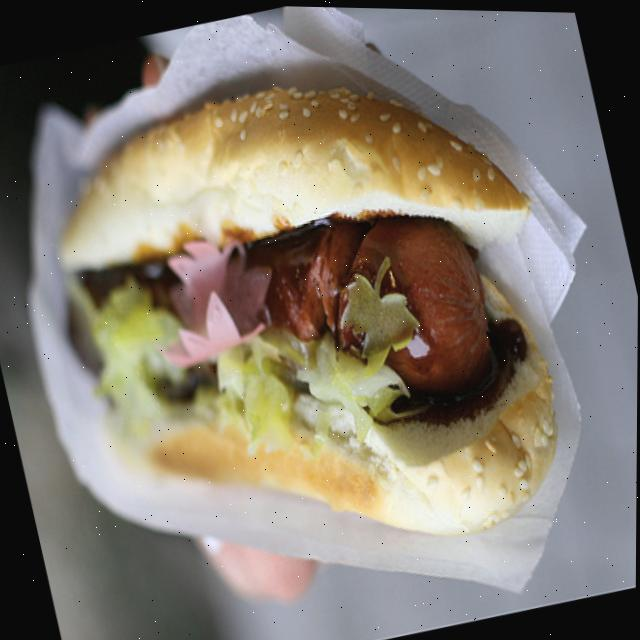汉堡快餐: (11, 34, 604, 628)
